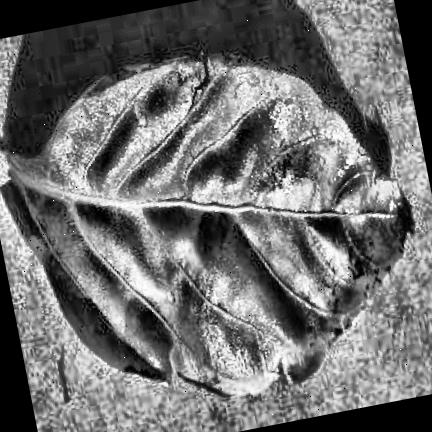leaf: (0, 54, 408, 391)
